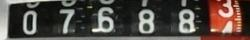digits: (177, 8, 195, 34), (58, 8, 75, 34), (137, 9, 155, 33), (98, 7, 115, 32), (22, 9, 38, 34), (221, 21, 233, 35)
